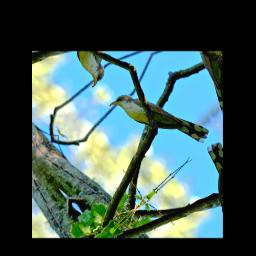Cuckoo: (109, 68, 212, 172)
